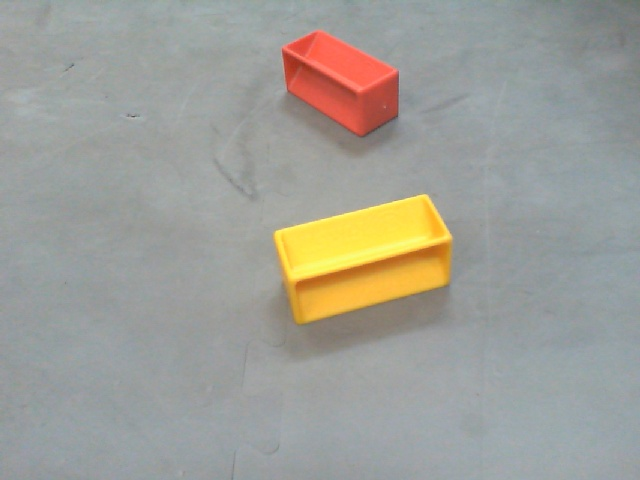RedSample: (280, 27, 400, 139)
YellowSample: (269, 190, 455, 326)
